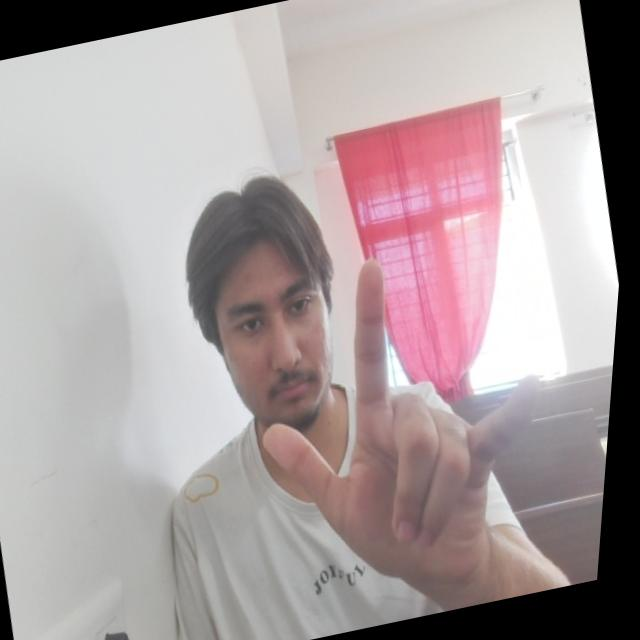iloveyou: (221, 225, 598, 635)
